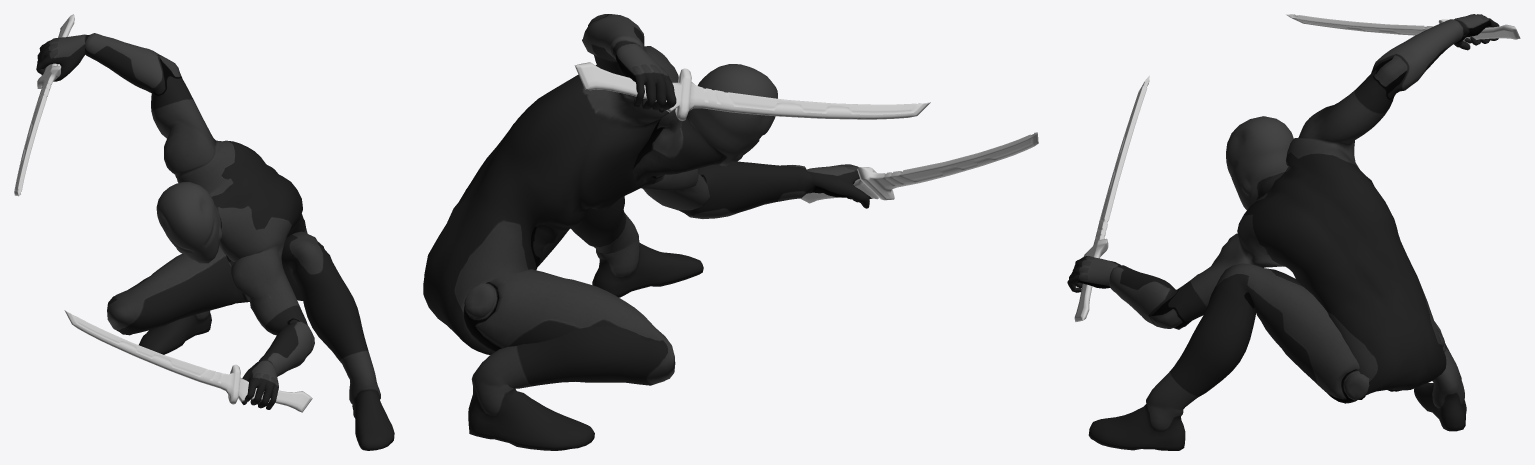
3 renders of one model, left to right at view 1: azimuth 30°, elevation 25°; view 2: azimuth 150°, elevation 25°; view 3: azimuth 270°, elevation 25°, orthographic. The views are drawn at different scales.
Parts seen in each view (by area): view 1: Cyborg_Ninja_Killer, Sword_l, Sword_l001; view 2: Cyborg_Ninja_Killer, Sword_l001, Sword_l; view 3: Cyborg_Ninja_Killer, Sword_l, Sword_l001.
Boxes of the visible parts, x1=… form: Cyborg_Ninja_Killer: x1=36, y1=33, x2=394, y2=450; Sword_l: x1=64, y1=310, x2=312, y2=412; Sword_l001: x1=14, y1=14, x2=74, y2=196; Cyborg_Ninja_Killer: x1=423, y1=14, x2=872, y2=450; Sword_l001: x1=574, y1=62, x2=930, y2=120; Sword_l: x1=800, y1=132, x2=1038, y2=203; Cyborg_Ninja_Killer: x1=1067, y1=14, x2=1499, y2=450; Sword_l: x1=1074, y1=75, x2=1149, y2=322; Sword_l001: x1=1286, y1=14, x2=1520, y2=44.
Size of the model in its own units: 126 by 109 by 128.
